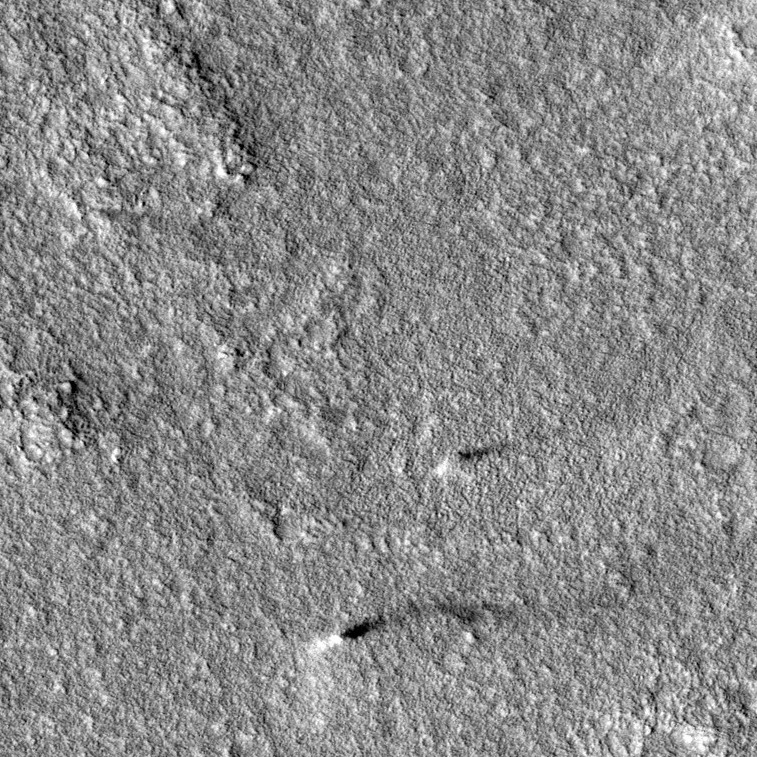dust_devil: (298, 596, 480, 667), (429, 435, 518, 483)
